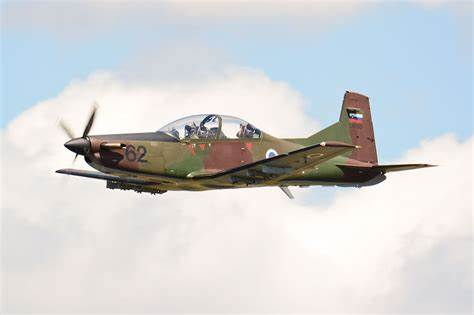Aeronef_militaire: (40, 84, 444, 207)
